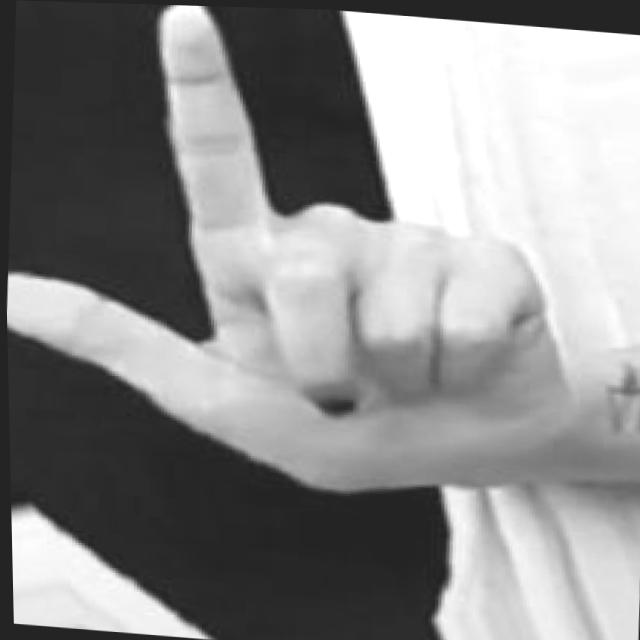L: (0, 0, 614, 511)
